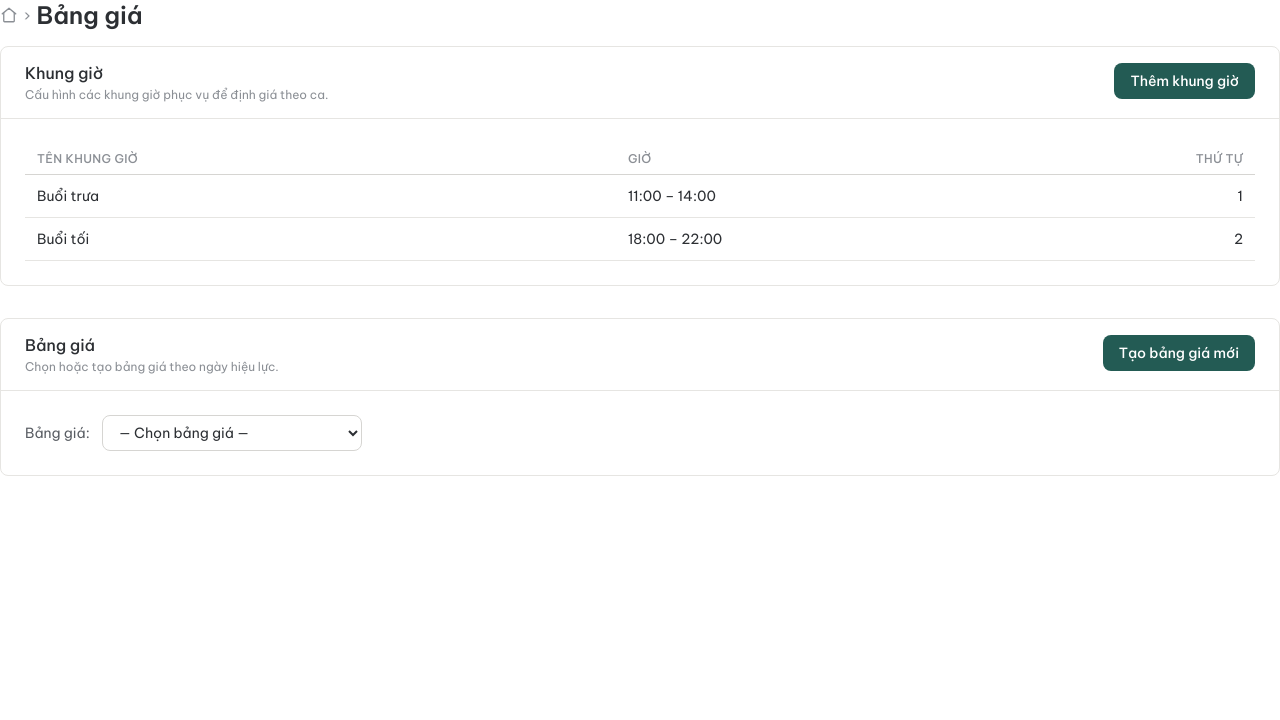
PricingPage — create time window › POSTs correct body and refetches on success
Expected: the text "Buổi trưa" is shown, x1=25 y1=174 x2=616 y2=218
Open "Thêm khung giờ" dialog
Click the button "Thêm khung giờ" at (1185,81), box x1=1114 y1=63 x2=1255 y2=99
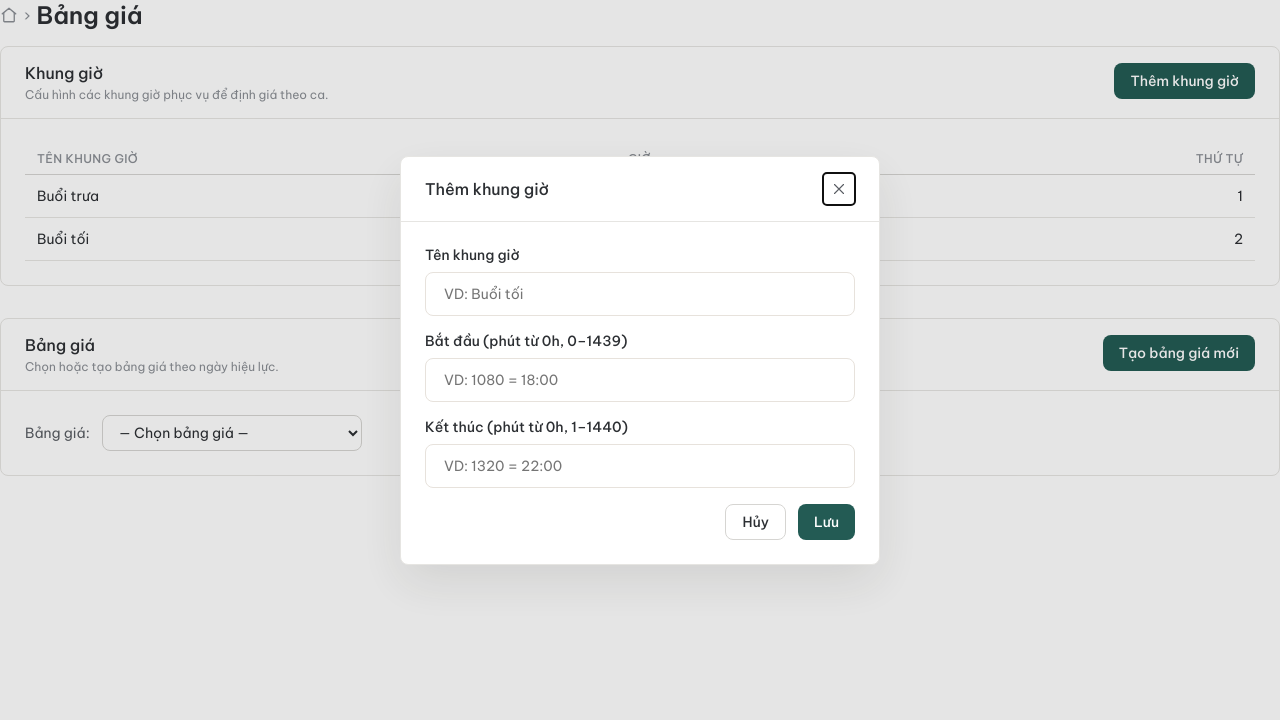
Expected: the field labelled "Tên khung giờ" is shown
Type "Buổi sáng" into the field labelled "Tên khung giờ" at (640,294), box x1=442 y1=272 x2=838 y2=314
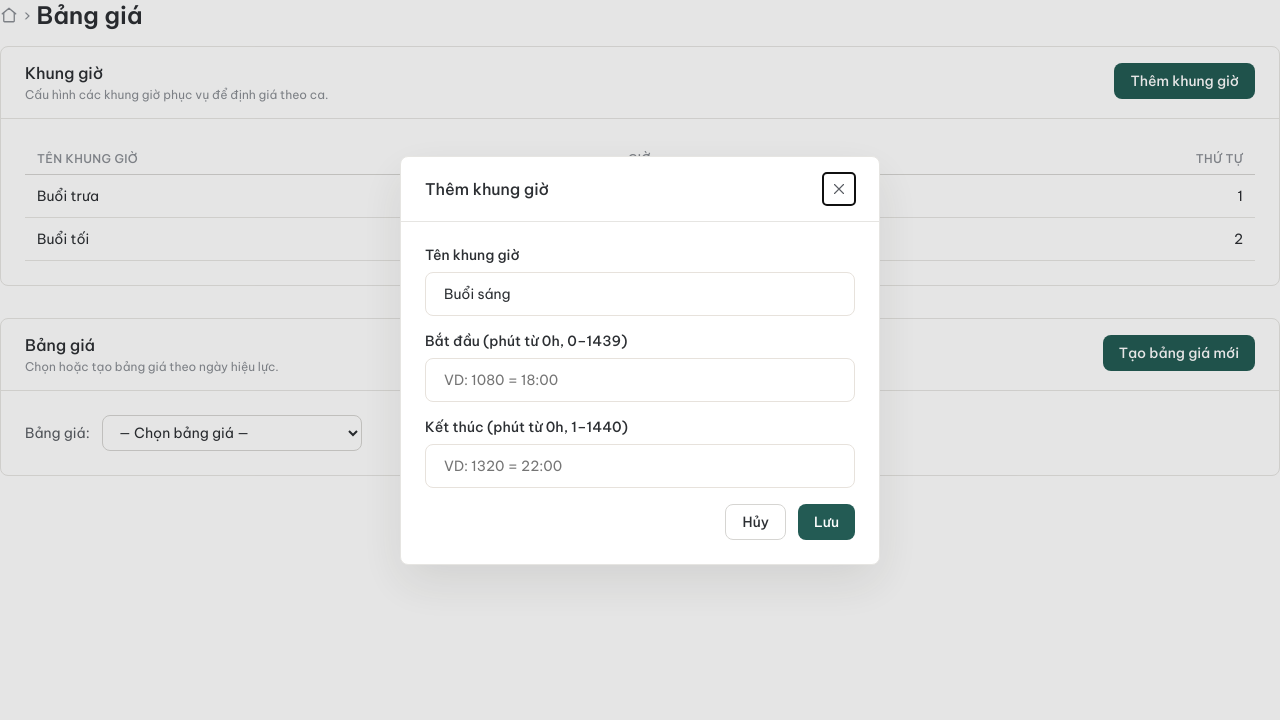
Type "360" into the number field labelled "Bắt đầu (phút từ 0h, 0–1439)" at (640,380), box x1=442 y1=358 x2=838 y2=400
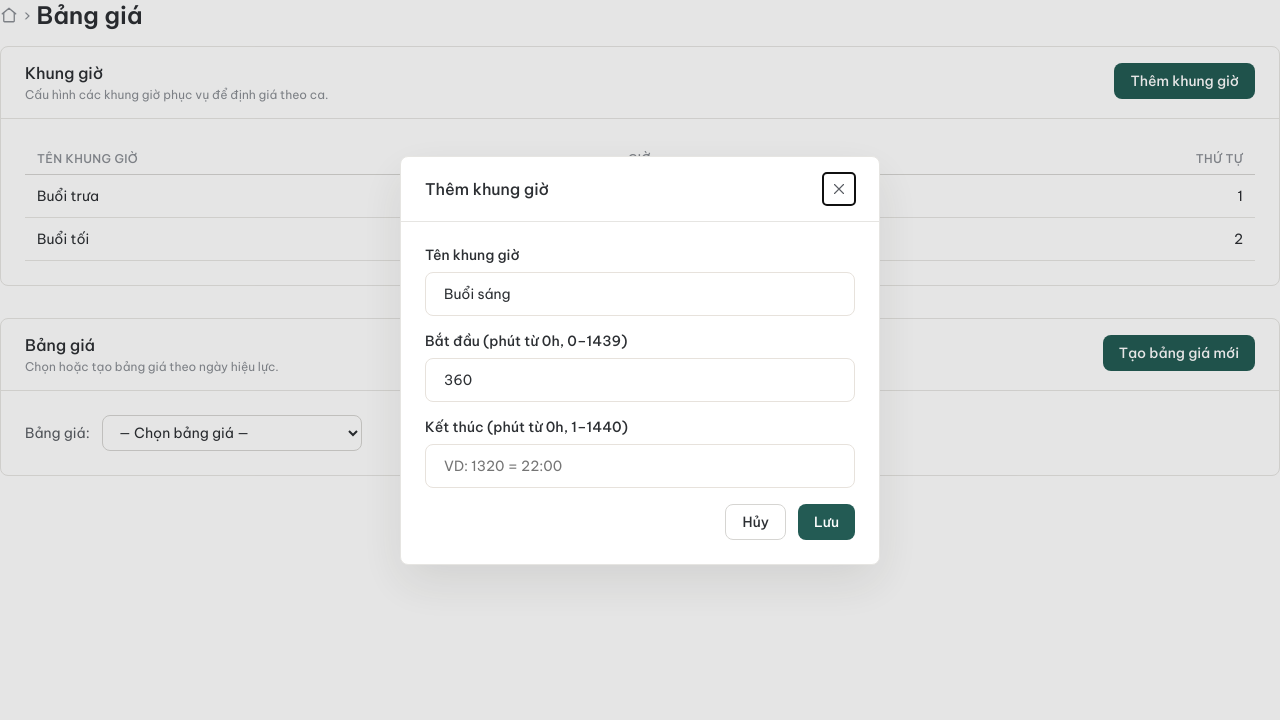
Type "660" into the number field labelled "Kết thúc (phút từ 0h, 1–1440)" at (640,466), box x1=442 y1=444 x2=838 y2=486
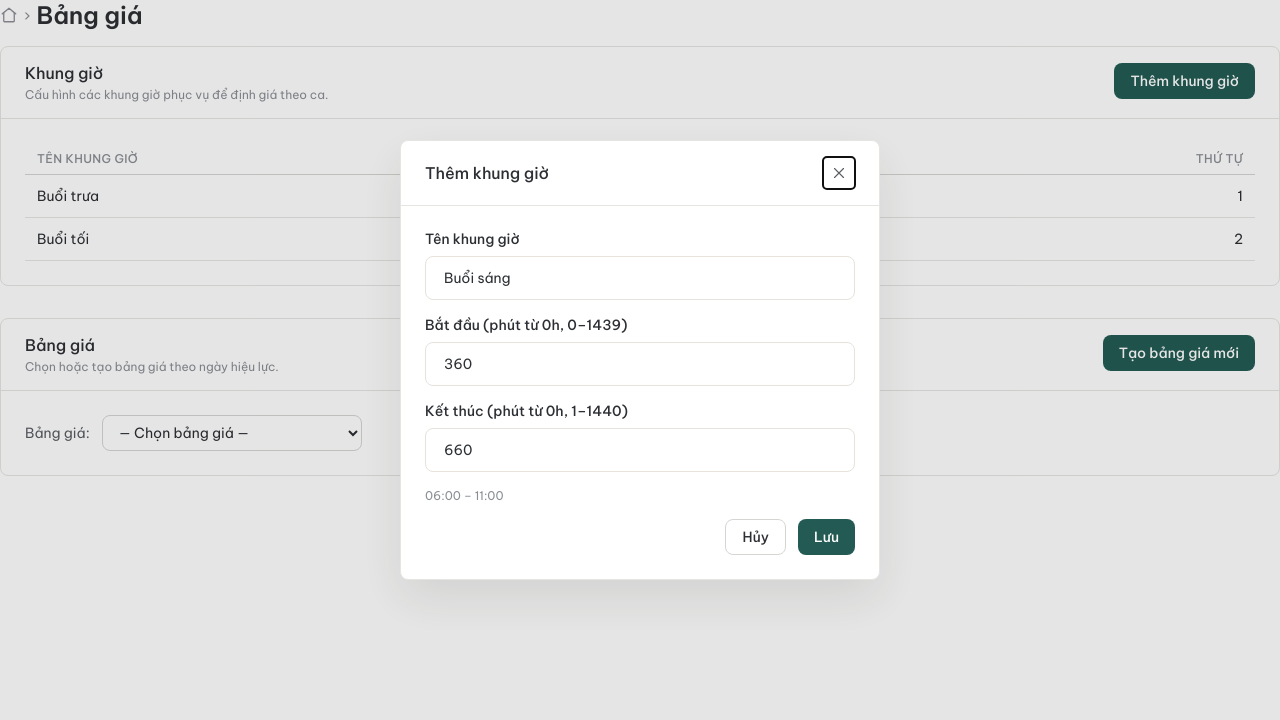
Click the button "Lưu" at (826,537), box x1=798 y1=519 x2=855 y2=555
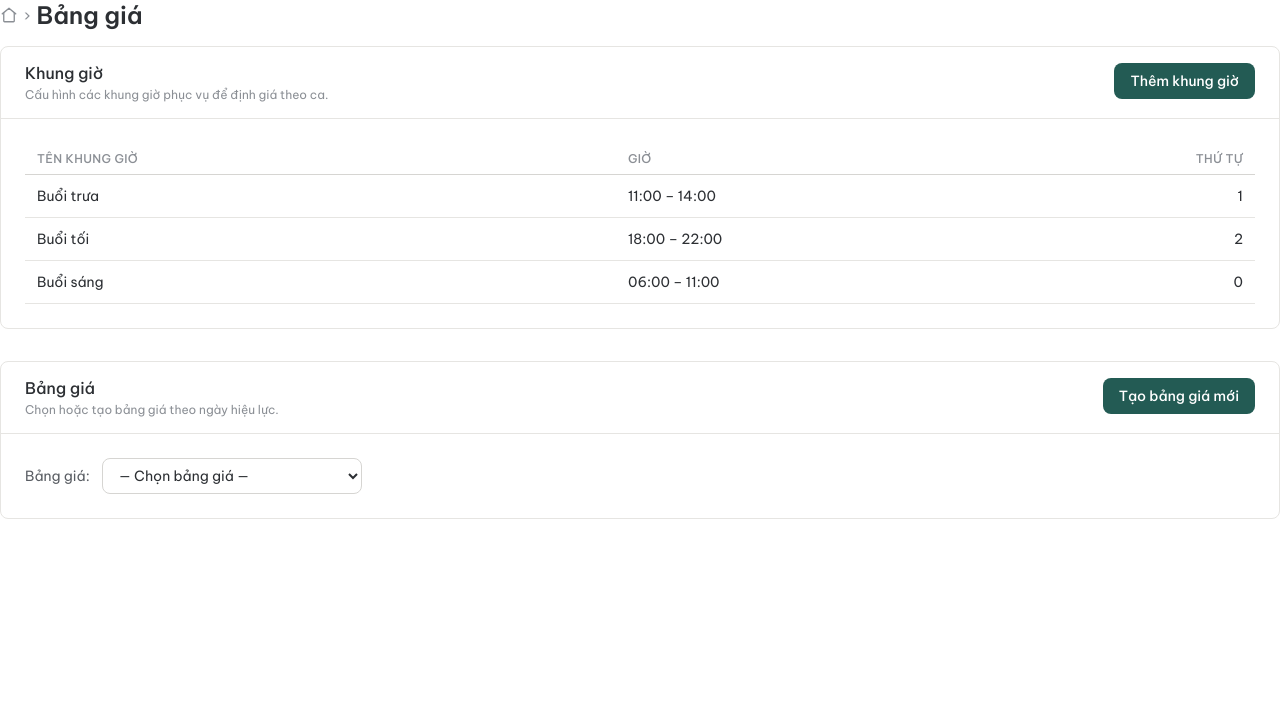
Expected: the text "Buổi sáng" is shown, x1=25 y1=260 x2=616 y2=304
